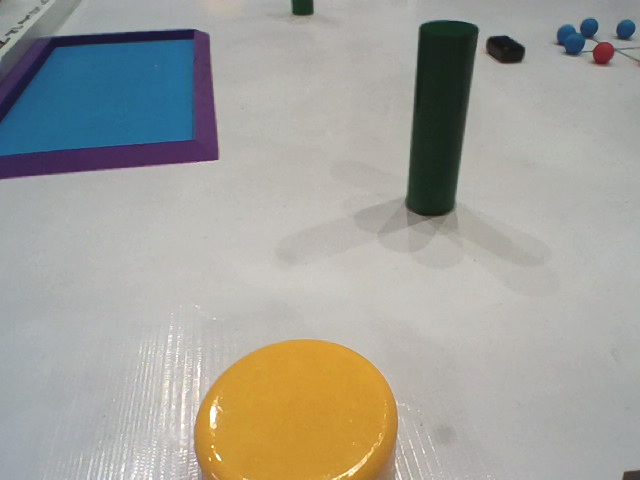black: (487, 34, 528, 64)
blue: (616, 19, 636, 38), (566, 36, 583, 54), (580, 17, 596, 33), (558, 25, 572, 42)
kuang: (1, 28, 224, 181)
red: (593, 42, 614, 64)
yellow: (196, 342, 398, 480)
zhuzi: (404, 17, 477, 214)
